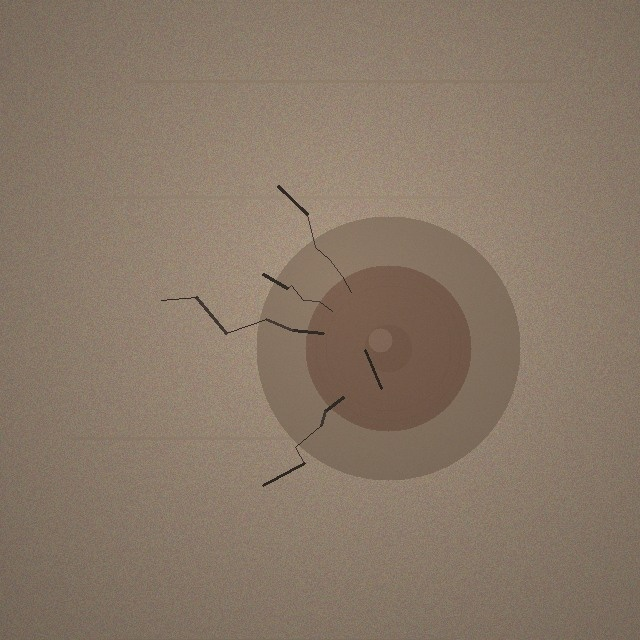crack: (256, 216, 520, 480)
